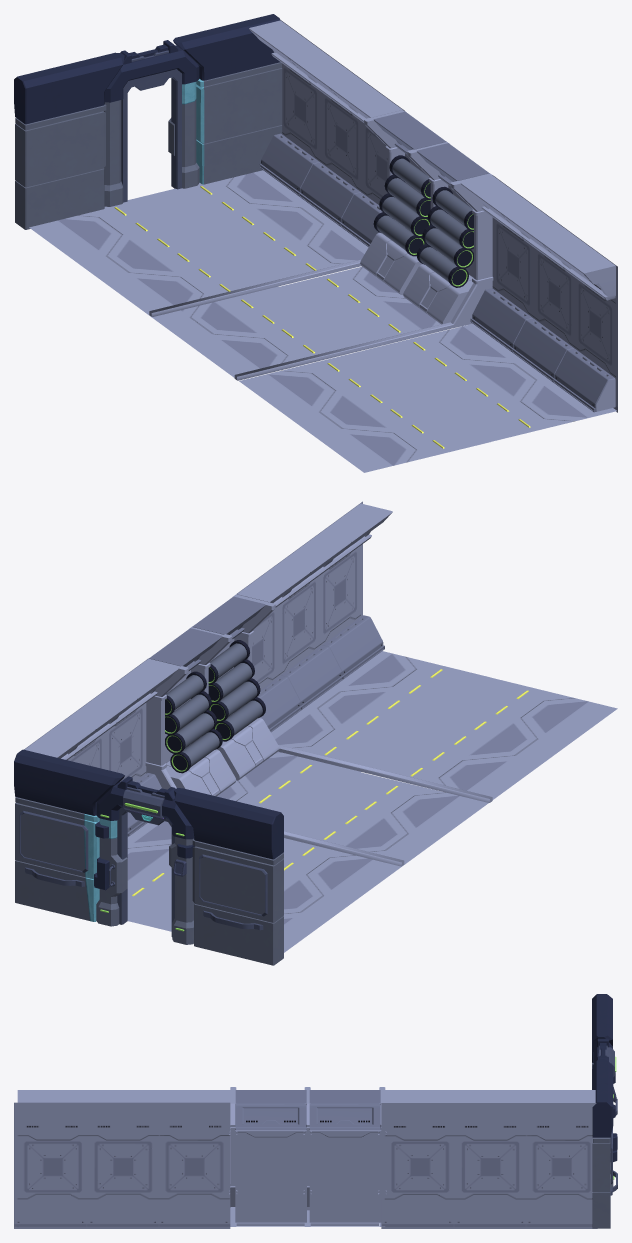
Rendered from corridorr.fbx.
The picture shows the model from 3 angles, top to bottom: view 1: azimuth 30°, elevation 25°; view 2: azimuth 150°, elevation 25°; view 3: azimuth 270°, elevation 25°; orthographic projection. The views are drawn at different scales.
Visible parts, largest first — view 1: pasted__pPlane6 (×2), pasted__pPlane4 (×2), pasted__pPlane5 (×2), pasted__doorframeR, pasted__doorframeL, pasted__polySurface2829 (×6), pasted__blendingtub1, pasted__doorframe, pasted__blendingtub, polySurface1403, polySurface1, polySurface1588 (+7 smaller); view 2: pasted__pPlane6 (×2), pasted__pPlane4 (×2), pasted__doorframeR, pasted__doorframeL, pasted__pPlane5 (×2), pasted__polySurface2829 (×6), pasted__blendingtub1, pasted__doorframe, polySurface1403, pasted__blendingtub, polySurface1, pasted__polySurface2842 (+7 smaller); view 3: pasted__pPlane5 (×2), pasted__polySurface1481, polySurface1481, pasted__polySurface2842, pasted__polySurface2829 (×6), pasted__doorframeL, pasted__doorframeR, polySurface1588, pasted__doorframe, pasted__polySurface1588, polySurface1.
Boxes of the visible parts, bbox=[...] form: pasted__pPlane6 (×2): bbox=[29, 194, 490, 472]; pasted__pPlane4 (×2): bbox=[152, 170, 616, 441]; pasted__pPlane5 (×2): bbox=[280, 19, 617, 412]; pasted__doorframeR: bbox=[14, 52, 124, 229]; pasted__doorframeL: bbox=[173, 14, 282, 184]; pasted__polySurface2829 (×6): bbox=[249, 20, 615, 300]; pasted__blendingtub1: bbox=[148, 286, 357, 377]; pasted__doorframe: bbox=[104, 40, 199, 206]; pasted__blendingtub: bbox=[279, 266, 472, 344]; polySurface1403: bbox=[377, 158, 472, 281]; polySurface1: bbox=[360, 232, 473, 324]; polySurface1588: bbox=[234, 173, 493, 380]; pasted__pPlane6 (×2): bbox=[151, 677, 617, 952]; pasted__pPlane4 (×2): bbox=[127, 651, 490, 926]; pasted__doorframeR: bbox=[174, 788, 283, 965]; pasted__doorframeL: bbox=[14, 749, 124, 921]; pasted__pPlane5 (×2): bbox=[24, 501, 362, 781]; pasted__polySurface2829 (×6): bbox=[24, 503, 392, 760]; pasted__blendingtub1: bbox=[284, 772, 488, 867]; pasted__doorframe: bbox=[94, 776, 194, 944]; polySurface1403: bbox=[166, 643, 262, 766]; pasted__blendingtub: bbox=[217, 751, 360, 828]; polySurface1: bbox=[165, 718, 279, 796]; pasted__polySurface2842: bbox=[149, 596, 265, 670]; pasted__pPlane5 (×2): bbox=[14, 1102, 597, 1228]; pasted__polySurface1481: bbox=[309, 1130, 381, 1223]; polySurface1481: bbox=[235, 1130, 306, 1223]; pasted__polySurface2842: bbox=[235, 1090, 380, 1131]; pasted__polySurface2829 (×6): bbox=[17, 1090, 595, 1130]; pasted__doorframeL: bbox=[592, 1059, 617, 1228]; pasted__doorframeR: bbox=[592, 994, 617, 1115]; polySurface1588: bbox=[229, 1087, 237, 1226]; pasted__doorframe: bbox=[593, 1038, 617, 1187]; pasted__polySurface1588: bbox=[303, 1087, 311, 1226]; polySurface1: bbox=[236, 1223, 378, 1225].
Bounding box in the file's own units: 91.36 × 49.53 × 214.
